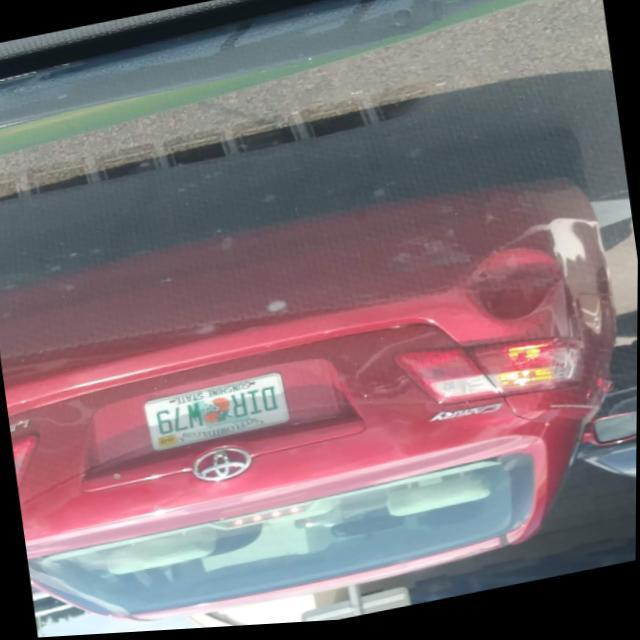Dent: (444, 240, 579, 348)
